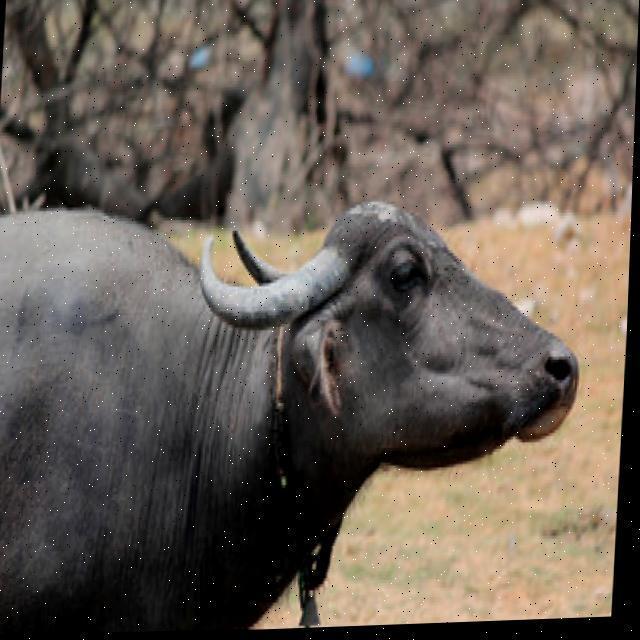Buffalo: (0, 174, 592, 640)
